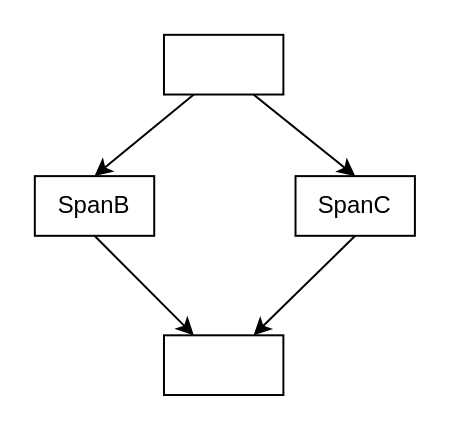
The diagram is 450 pixels wide and 430 high, and some of its shapes have lost their labels. Each missing label, with the box of its shape:
SpanA: (162, 33, 283, 95)
SpanD: (162, 333, 283, 395)
